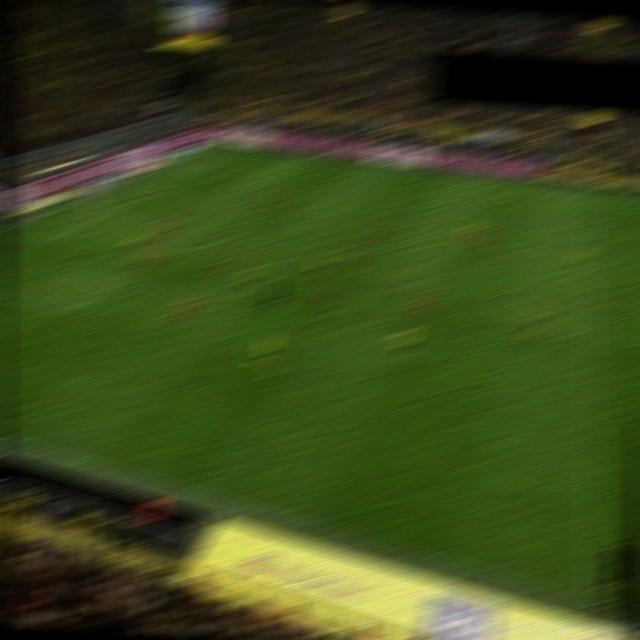bigarea_bottom_inner: (60, 305, 82, 316)
bigarea_top_inner: (271, 175, 293, 186)
bigarea_top_outter: (154, 161, 176, 172)
bottom_arc_area_intersection: (157, 246, 179, 257)
corner: (205, 140, 227, 151)
halfcircle_bottom: (578, 330, 600, 341)
halfcircle_top: (578, 249, 600, 260)
midline_bottom_intersection: (579, 594, 605, 610)
midline_top_intersection: (578, 187, 600, 198)
smallarea_bottom_inner: (37, 236, 59, 247)
smallarea_top_inner: (144, 186, 166, 197)
smallarea_top_outter: (106, 180, 128, 191)
top_arc_area_intersection: (226, 202, 249, 213)
